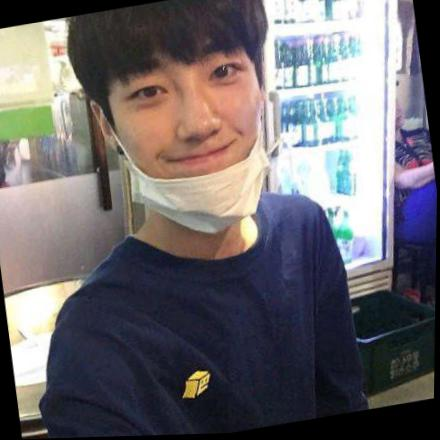WRONG: (96, 23, 282, 230)
